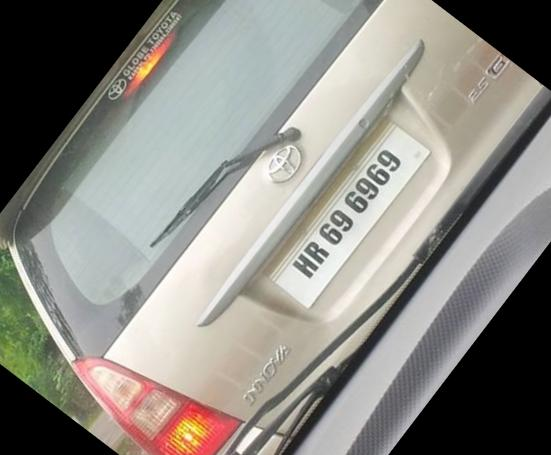plate: (257, 101, 447, 318)
